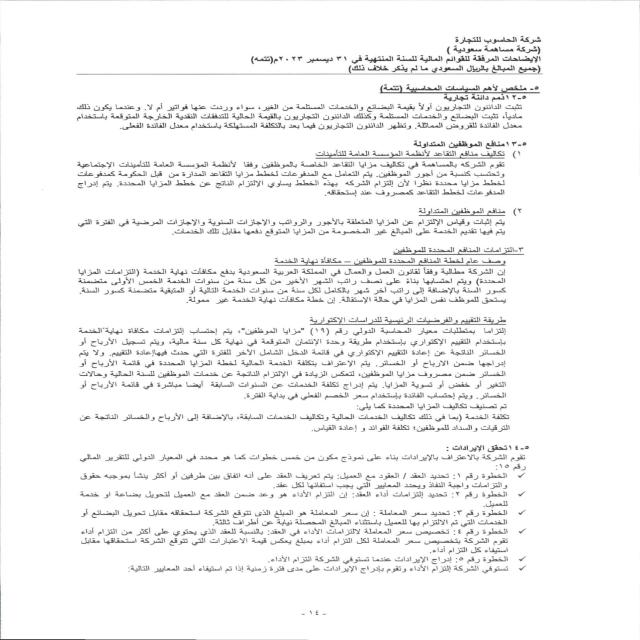notes: (418, 54, 546, 65)
text: (40, 85, 557, 585)
